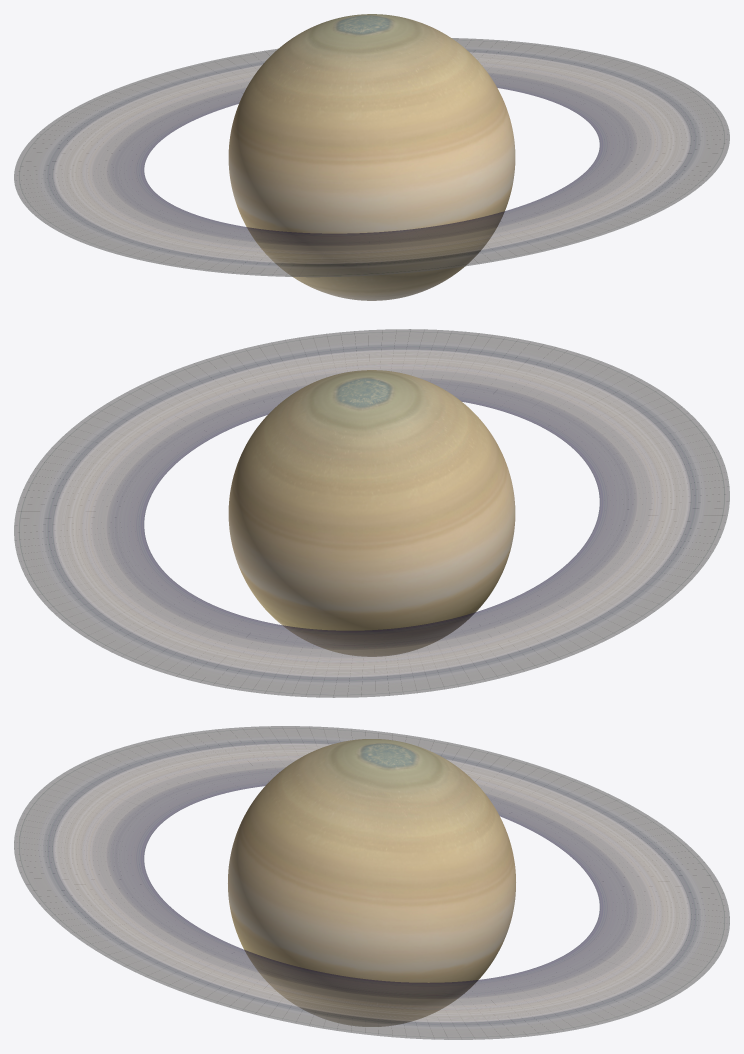
The model's file is saturno.glb.
The picture shows the model from 3 angles, top to bottom: view 1: azimuth 30°, elevation 25°; view 2: azimuth 150°, elevation 25°; view 3: azimuth 270°, elevation 25°; orthographic projection.
Visible parts, largest first — view 1: Mesh (7), Earth; view 2: Mesh (7), Earth; view 3: Mesh (7), Earth.
Part boxes in pixels (x1,y1,x2,y2): Mesh (7): (14,38,729,277); Earth: (228,14,515,300); Mesh (7): (14,329,729,697); Earth: (228,370,515,656); Mesh (7): (14,726,729,1039); Earth: (228,739,515,1026).
Bounding box in the file's own units: 250 × 100 × 248.
2 materials, 2 textured.
